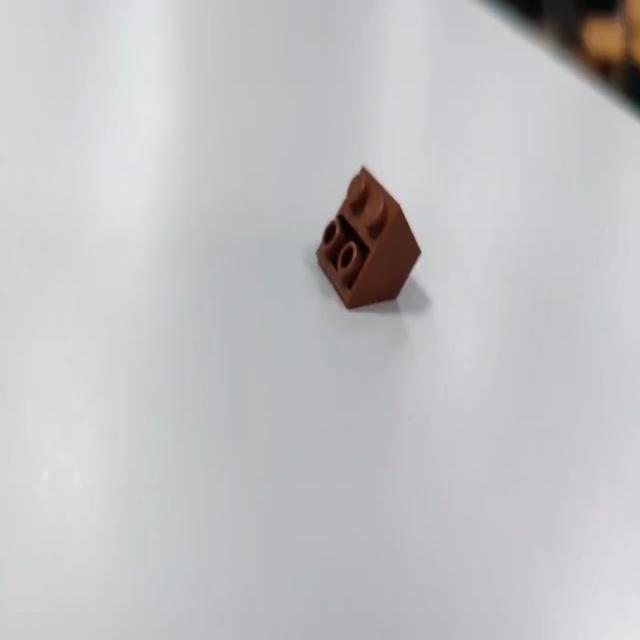X2x2x1: (315, 163, 421, 310)
